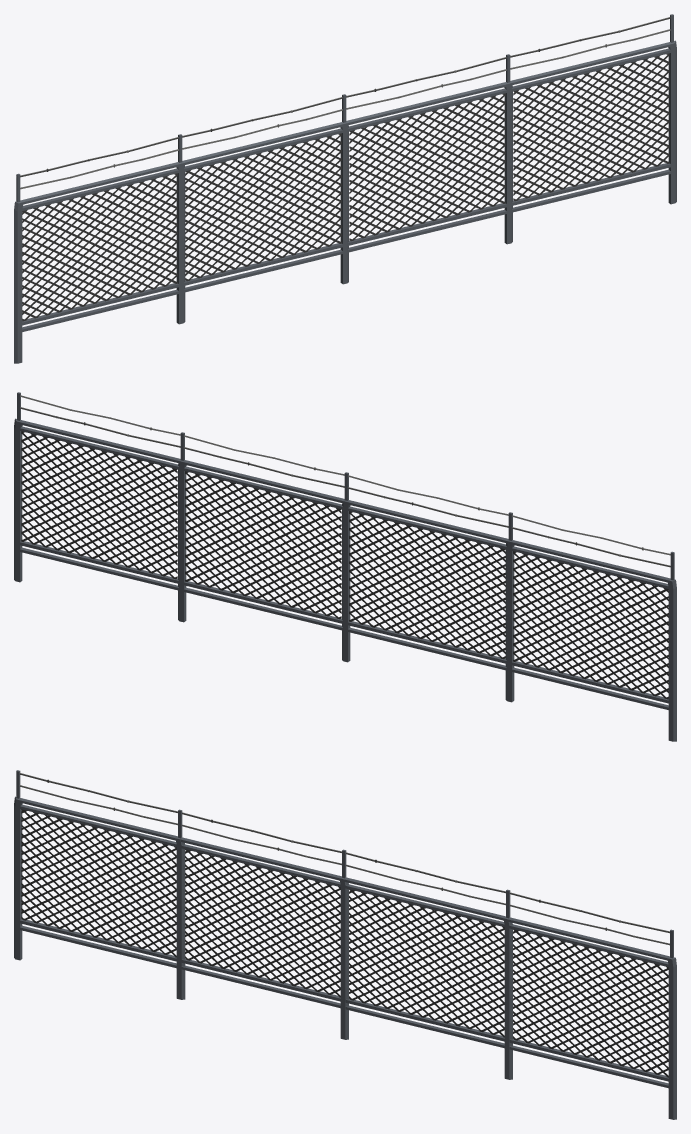
Rendered from SM_Prop_Fence_04.glb.
3 renders of one model, top to bottom at view 1: azimuth 30°, elevation 25°; view 2: azimuth 150°, elevation 25°; view 3: azimuth 330°, elevation 25°, orthographic.
Visible parts, largest first — view 1: SM_Prop_Fence_04; view 2: SM_Prop_Fence_04; view 3: SM_Prop_Fence_04.
Boxes of the visible parts, box(x1,y1,x2,y2) form: SM_Prop_Fence_04: box(14, 14, 676, 363); SM_Prop_Fence_04: box(14, 392, 676, 741); SM_Prop_Fence_04: box(14, 770, 676, 1119).
Bounding box in the file's own units: 11.75 × 3.19 × 0.0724.
2 materials, 2 textured.
